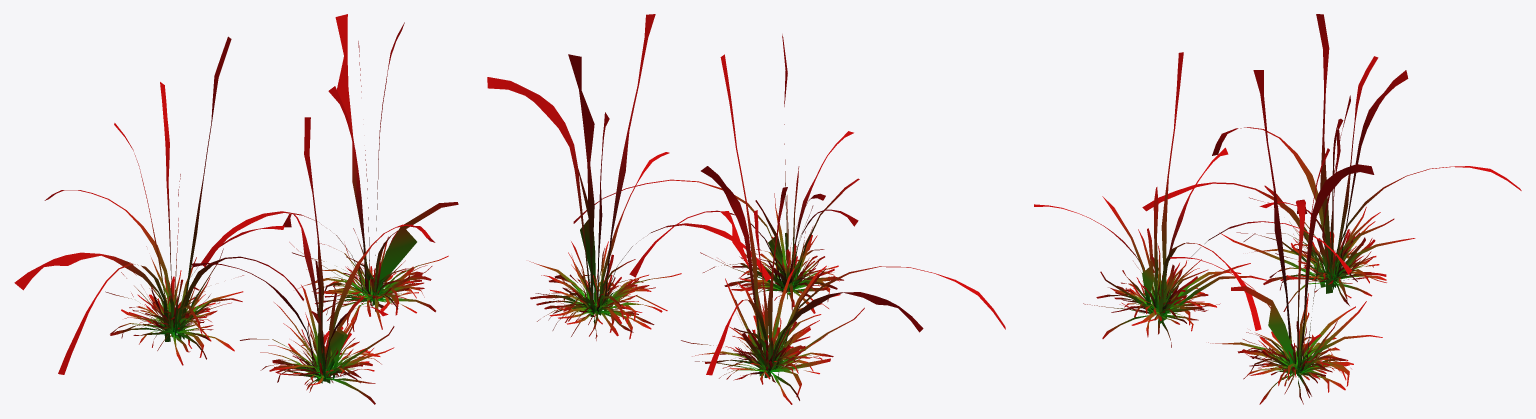
File: rbEkI_Var2_LOD0.fbx
3 renders of one model, left to right at view 1: azimuth 30°, elevation 25°; view 2: azimuth 150°, elevation 25°; view 3: azimuth 270°, elevation 25°, orthographic. The views are drawn at different scales.
Parts seen in each view (by area): view 1: _4c81_Var2_LOD0; view 2: _4c81_Var2_LOD0; view 3: _4c81_Var2_LOD0.
Boxes of the visible parts, x1=… form: _4c81_Var2_LOD0: x1=14, y1=14, x2=458, y2=404; _4c81_Var2_LOD0: x1=487, y1=14, x2=1005, y2=404; _4c81_Var2_LOD0: x1=1034, y1=14, x2=1521, y2=404.
Bounding box in the file's own units: 158 × 106 × 153.
